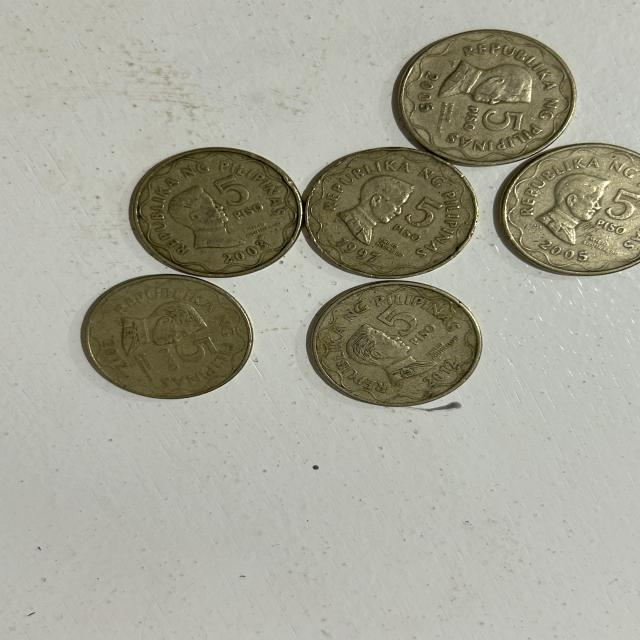5_Old_Front: (368, 302, 474, 359), (207, 172, 270, 230), (455, 101, 534, 145), (151, 334, 234, 374), (390, 196, 445, 244), (592, 181, 640, 234)
